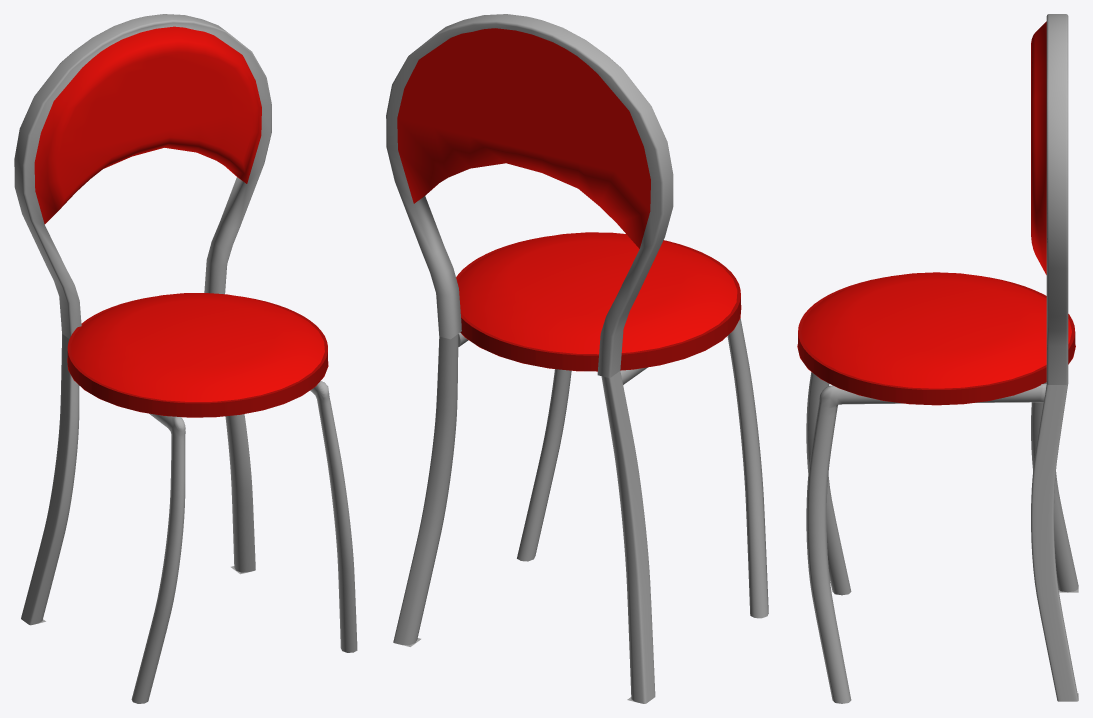
Rendered from chair .fbx.
3 renders of one model, left to right at view 1: azimuth 30°, elevation 25°; view 2: azimuth 150°, elevation 25°; view 3: azimuth 270°, elevation 25°, orthographic. The views are drawn at different scales.
Parts seen in each view (by area): view 1: Cube; view 2: Cube; view 3: Cube.
Part boxes in pixels (x1,y1,x2,y2): Cube: (14,14,357,703); Cube: (386,14,768,703); Cube: (797,14,1078,703).
Bounding box in the file's own units: 182 × 406 × 168.
